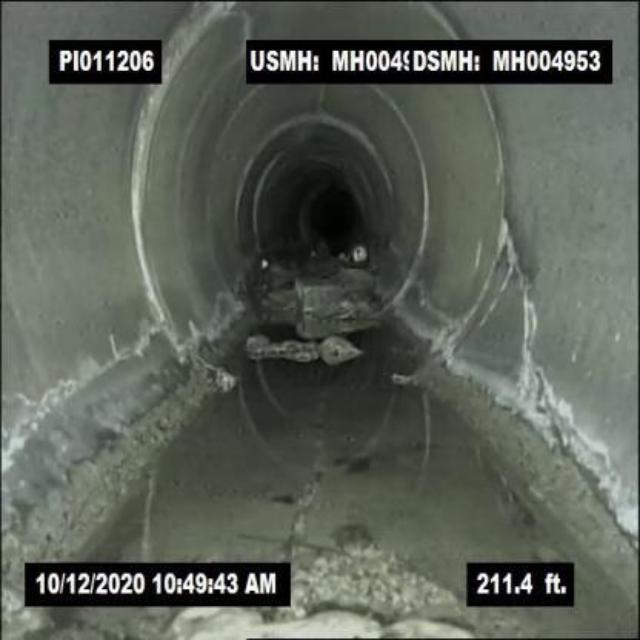Crack: (500, 240, 546, 406), (280, 443, 334, 563)
Debris: (245, 331, 362, 368)
Obstacle: (151, 606, 485, 638)
